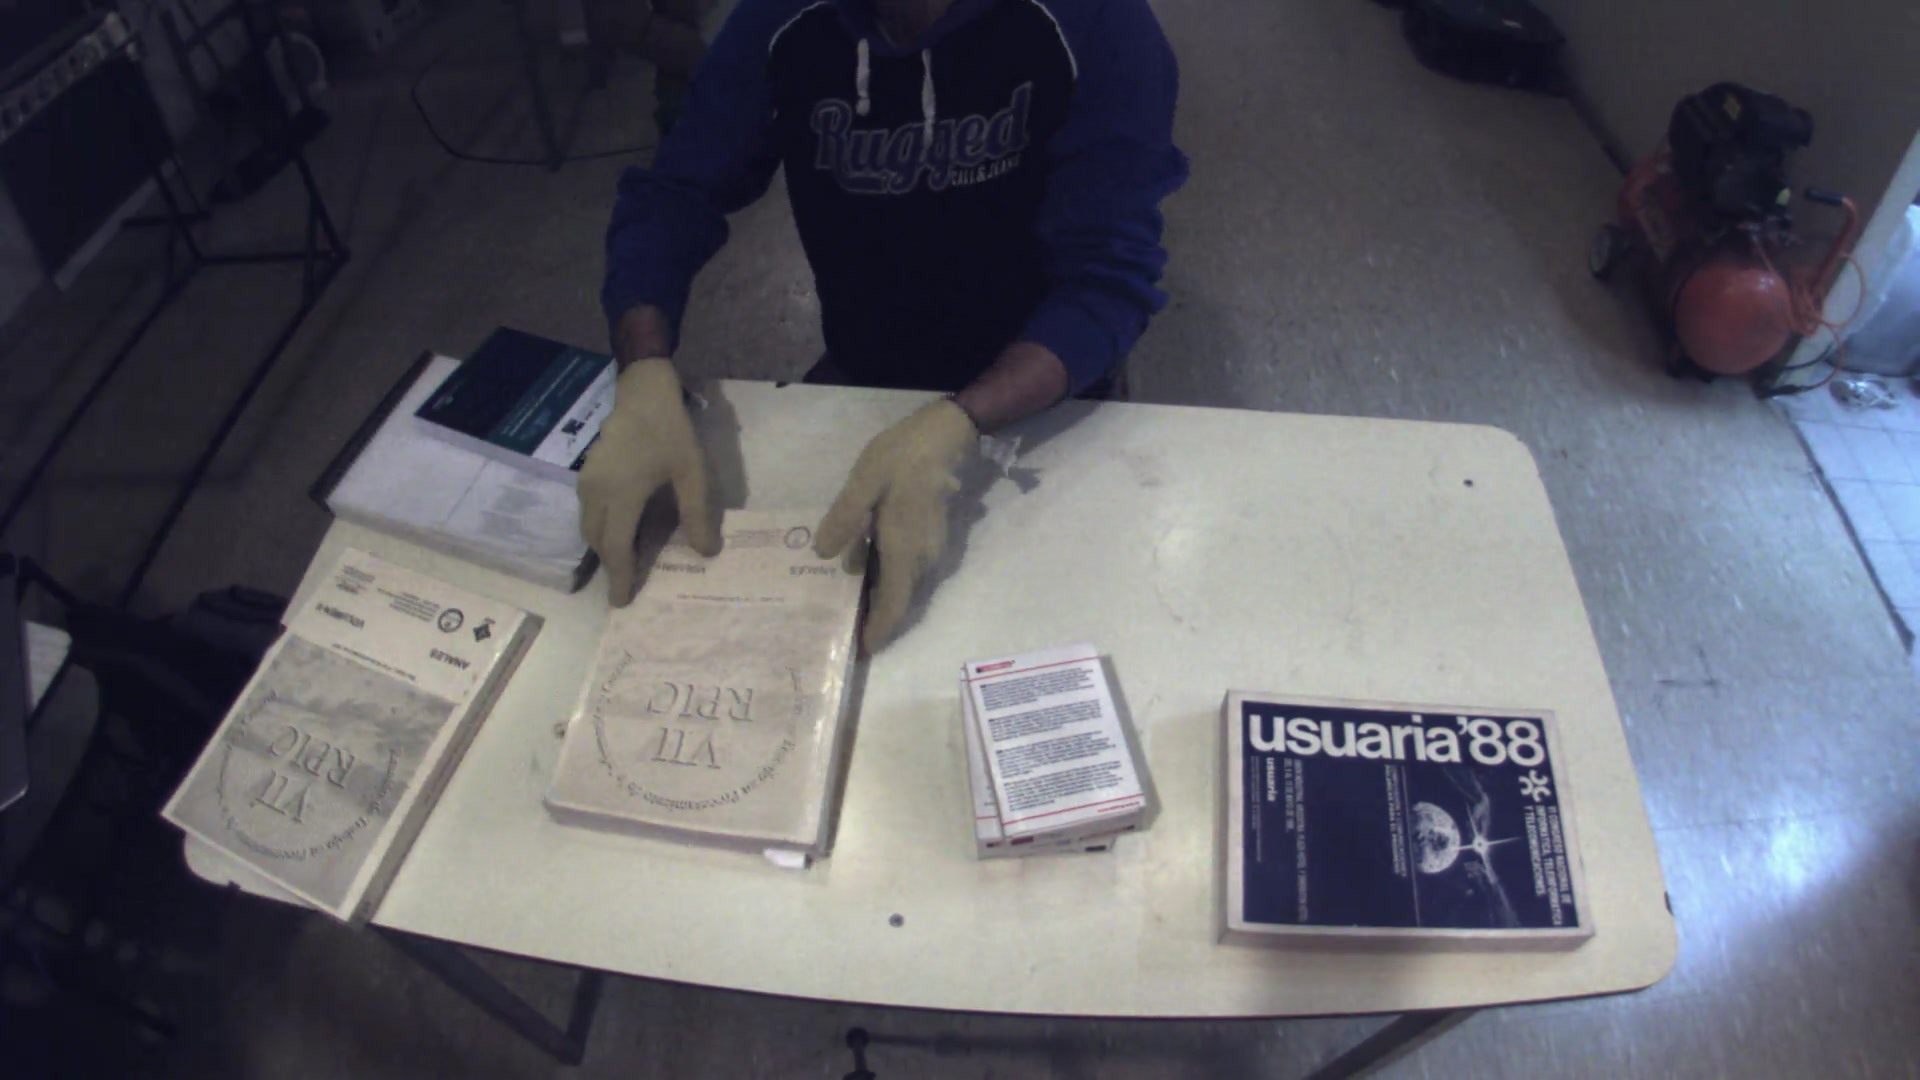hand: (807, 380, 986, 651), (558, 344, 717, 615)
